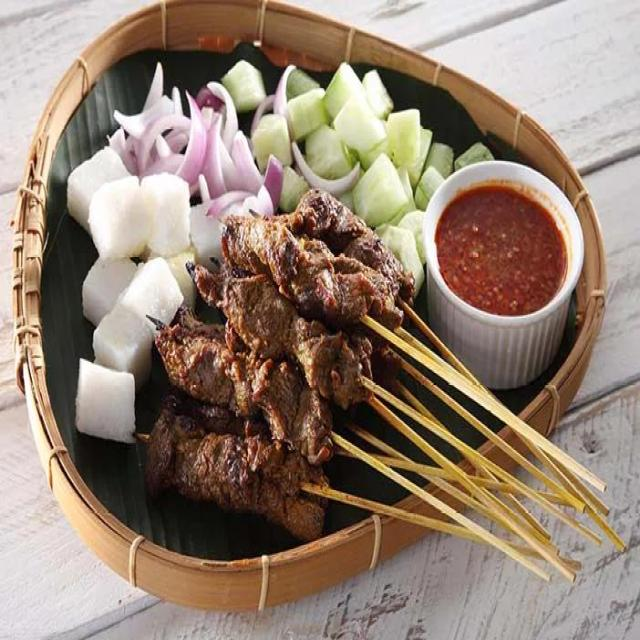Sate: (180, 180, 486, 572)
